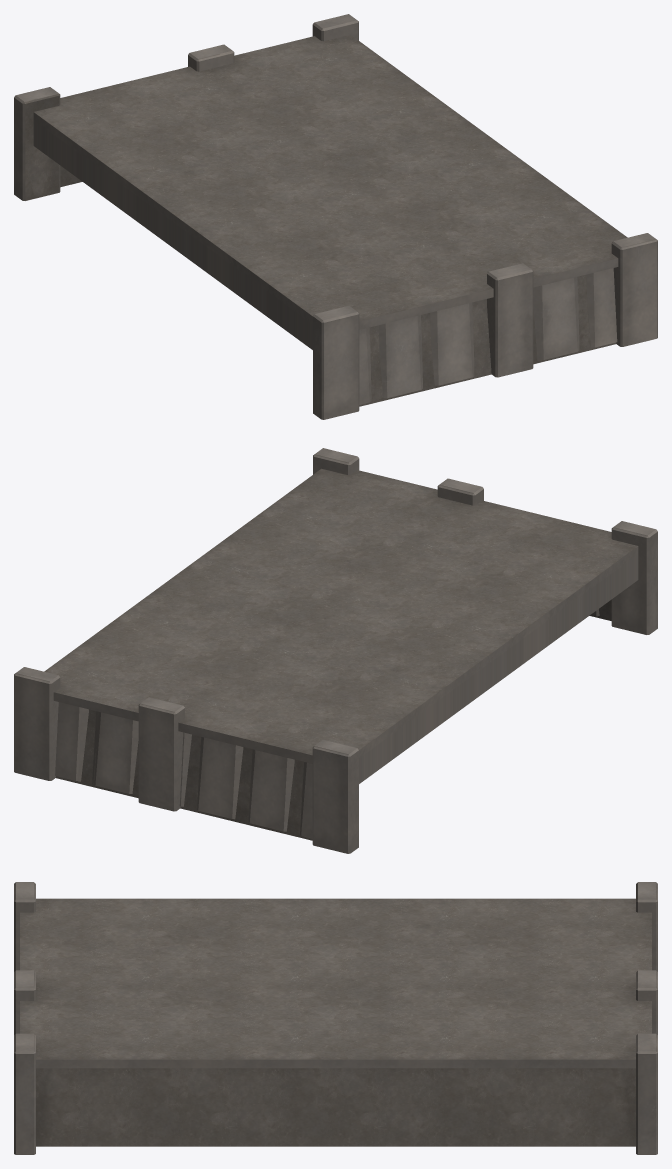
File: Trottoir_3.3.fbx
3 renders of one model, top to bottom at view 1: azimuth 30°, elevation 25°; view 2: azimuth 150°, elevation 25°; view 3: azimuth 270°, elevation 25°, orthographic. The views are drawn at different scales.
Visible parts, largest first — view 1: Trottoir_3.3; view 2: Trottoir_3.3; view 3: Trottoir_3.3.
Part boxes in pixels (x1,y1,x2,y2): Trottoir_3.3: [14, 14, 657, 419]; Trottoir_3.3: [14, 448, 657, 853]; Trottoir_3.3: [14, 882, 657, 1154].
Size of the model in its own units: 4118 by 1159 by 6559.
